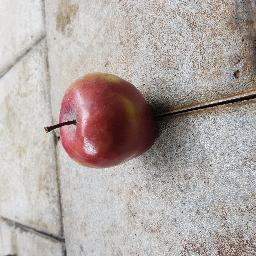Good_apple: (57, 74, 158, 168)
